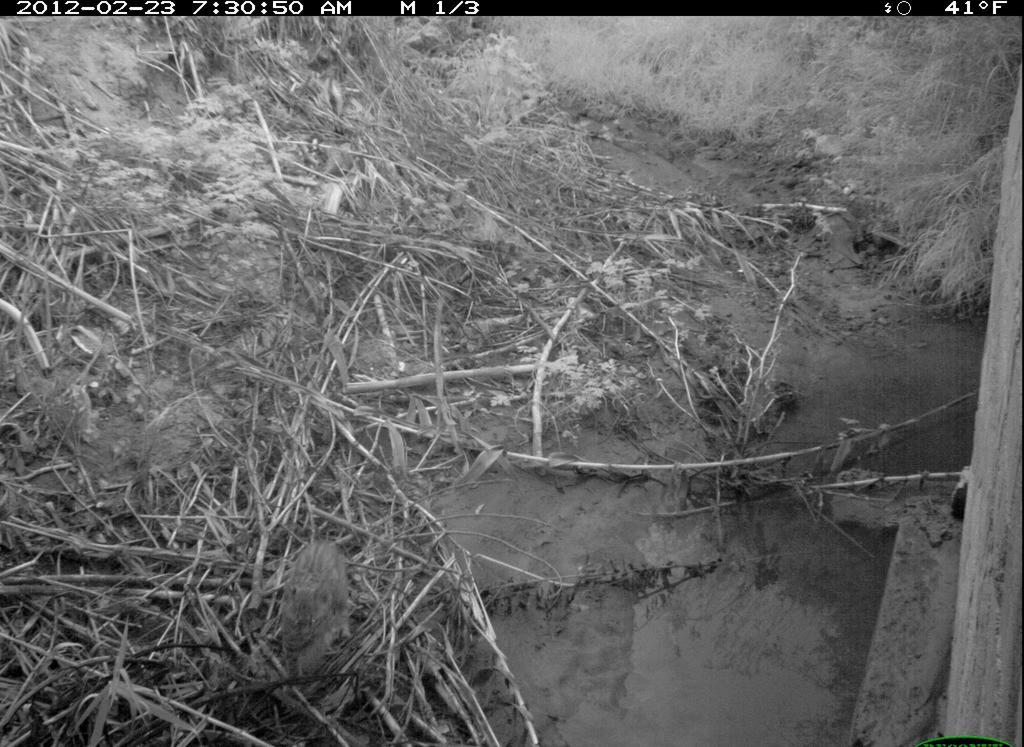opossum: (258, 522, 373, 674)
